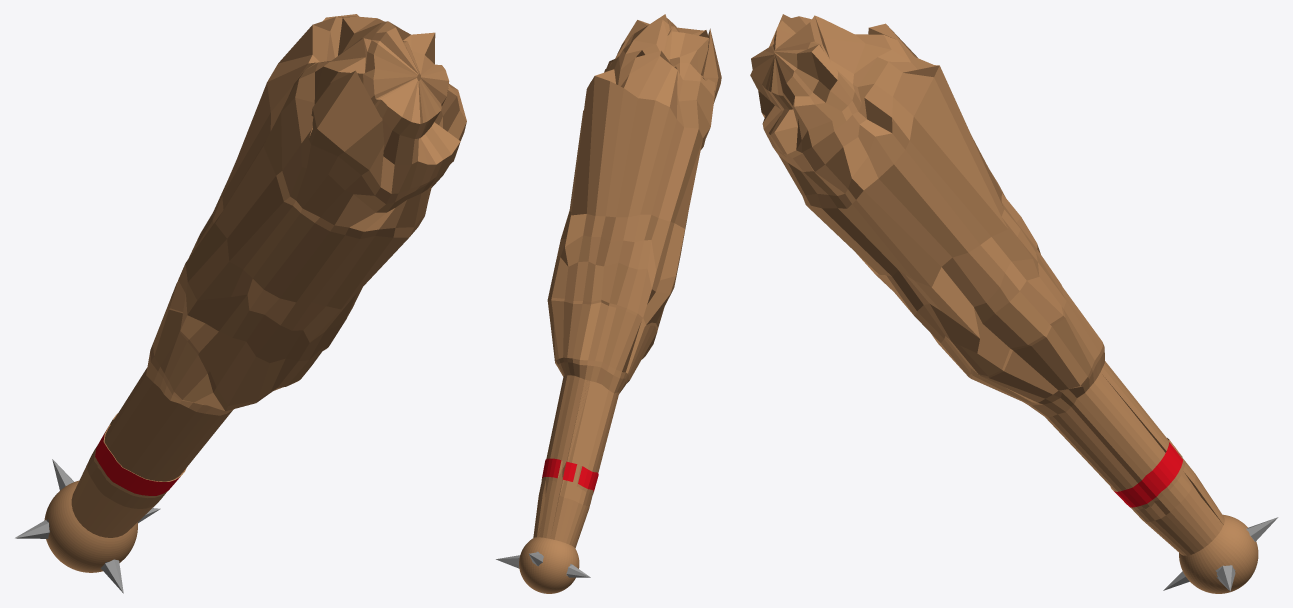
The model's file is Club.fbx.
3 renders of one model, left to right at view 1: azimuth 30°, elevation 25°; view 2: azimuth 150°, elevation 25°; view 3: azimuth 270°, elevation 25°, orthographic. The views are drawn at different scales.
Parts seen in each view (by area): view 1: Sphere; view 2: Sphere; view 3: Sphere.
Part boxes in pixels (<box>): Sphere: <box>15,14,466,593</box>; Sphere: <box>496,14,721,593</box>; Sphere: <box>750,14,1278,593</box>.
Bounding box in the file's own units: 63.06 × 193 × 154.
